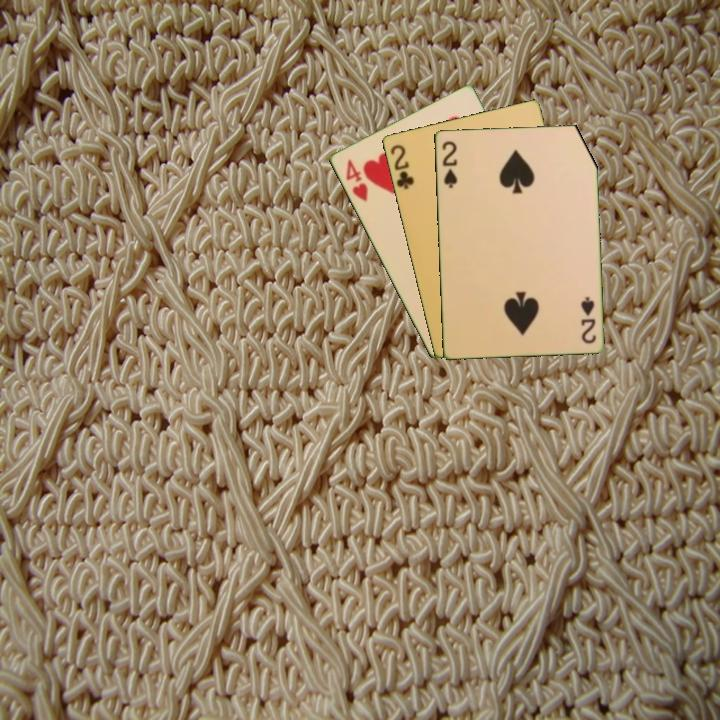2c: (387, 141, 417, 192)
2s: (438, 137, 460, 191), (577, 293, 598, 346)
4h: (342, 155, 370, 204)
